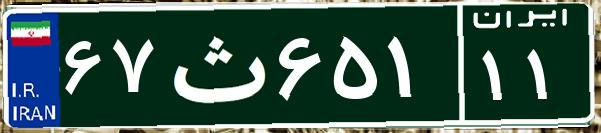1: (385, 28, 445, 110), (475, 38, 525, 113), (525, 38, 570, 115)
5: (330, 28, 385, 110)
6: (273, 28, 330, 110), (57, 26, 110, 107)
7: (110, 28, 158, 105)
ث: (158, 15, 273, 115)
